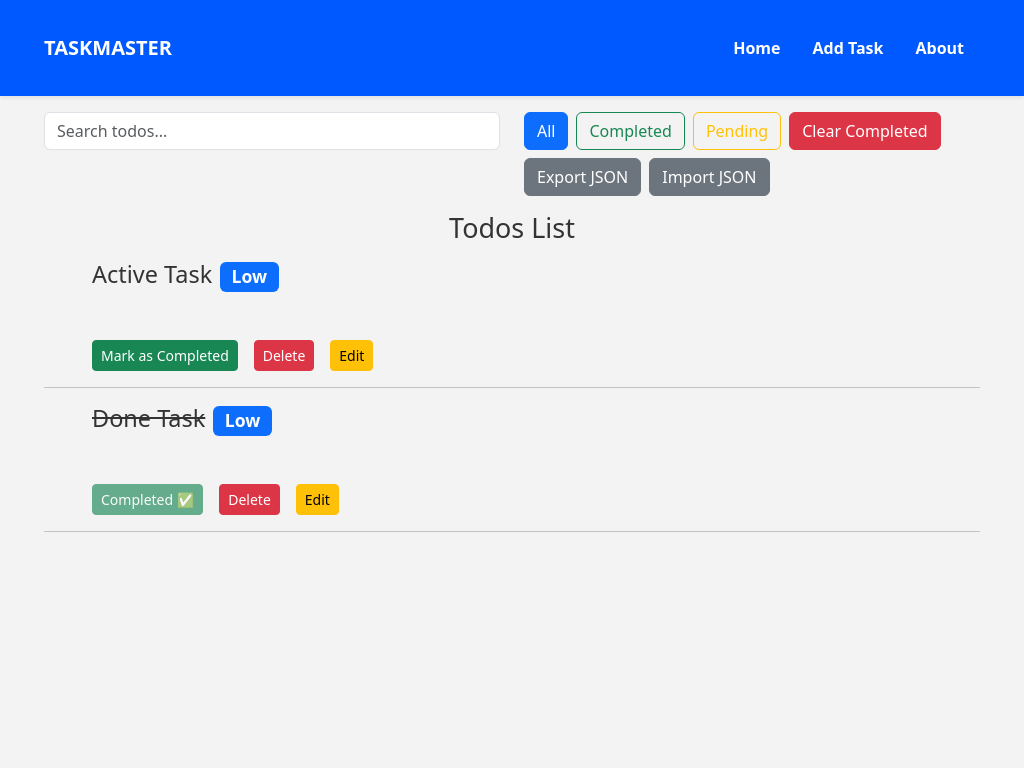
Test: App – Filtering › shows only pending todos when Pending filter is active
This screenshot has width=1024, height=768.
Step 1. Click the button "Pending" → click(737, 131), box [693, 112, 781, 150]
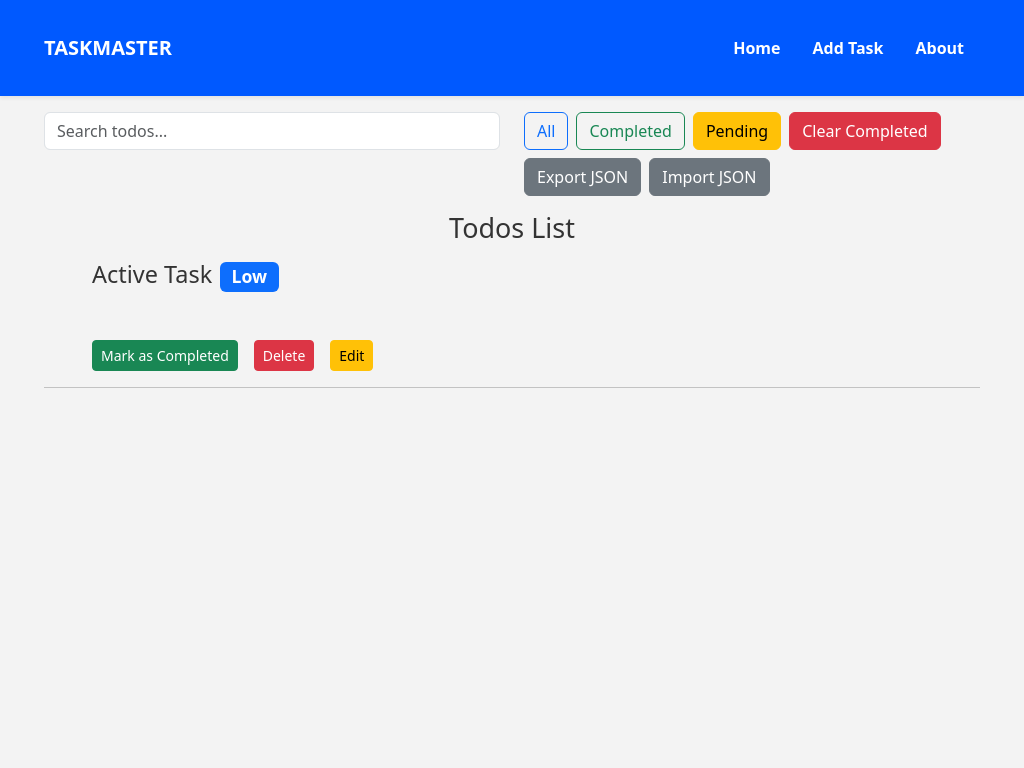
Expected: the heading "Active Task Low" is shown, [92, 258, 279, 292]
Expected: the heading "Done Task" is gone
